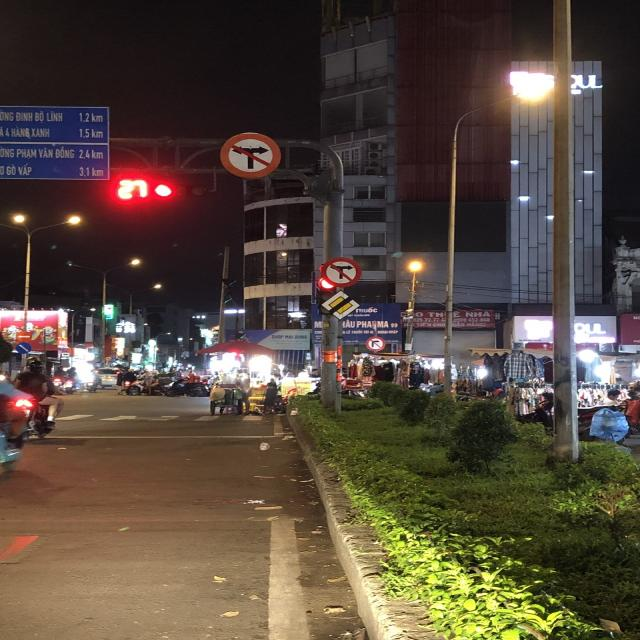Bien bao cam re phai: (364, 333, 387, 352)
